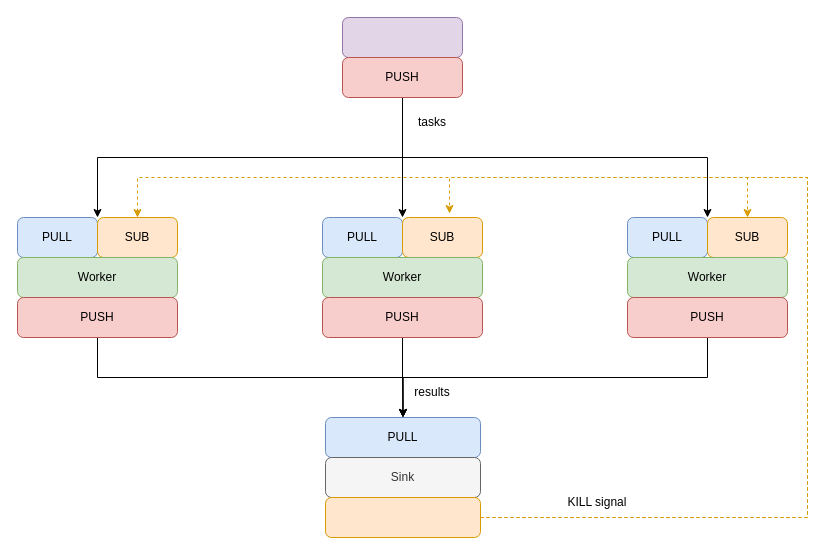
Image size: 833x555. Some labels were removed from this diagram. The centre of each missing label's shape, as x and y in pixels:
PUB: the point at 402,517
Ventilator: the point at 402,37
